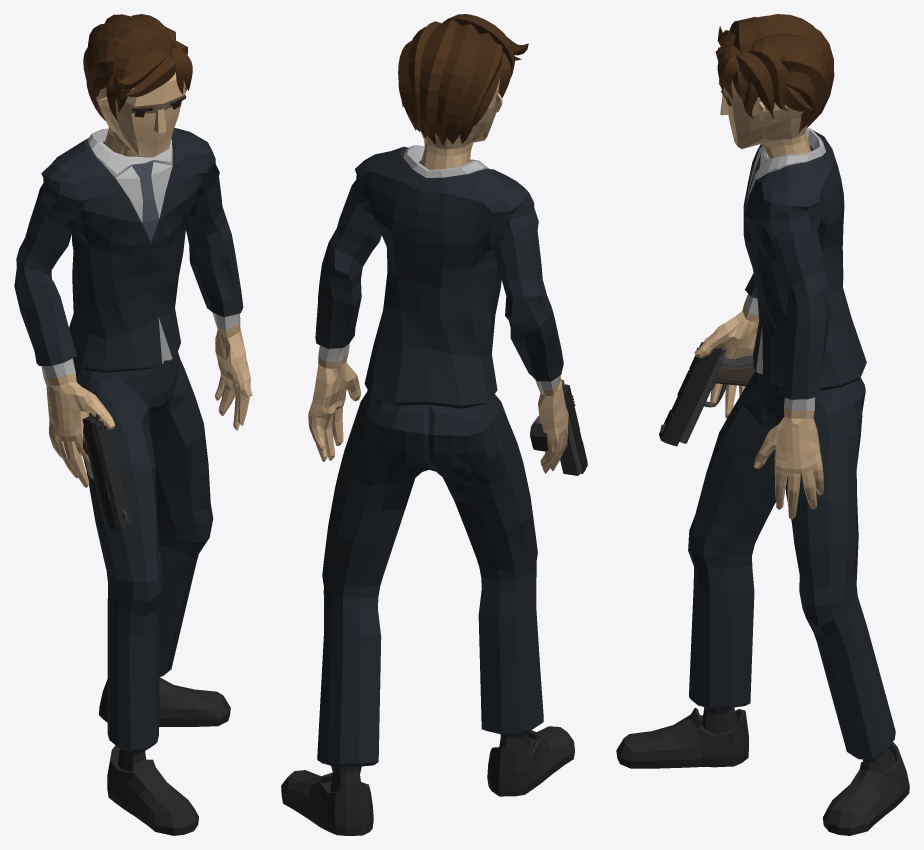
Rendered from quaternius-char-suit.glb.
The picture shows the model from 3 angles, left to right: view 1: azimuth 30°, elevation 25°; view 2: azimuth 150°, elevation 25°; view 3: azimuth 270°, elevation 25°; orthographic projection. The views are drawn at different scales.
Parts seen in each view (by area): view 1: Pistol; view 2: Pistol; view 3: Pistol.
Part boxes in pixels (x1,y1,x2,y2): Pistol: (14,14,252,835); Pistol: (281,14,587,835); Pistol: (616,14,909,835).
Bounding box in the file's own units: 0.594 × 1.81 × 0.6386.
